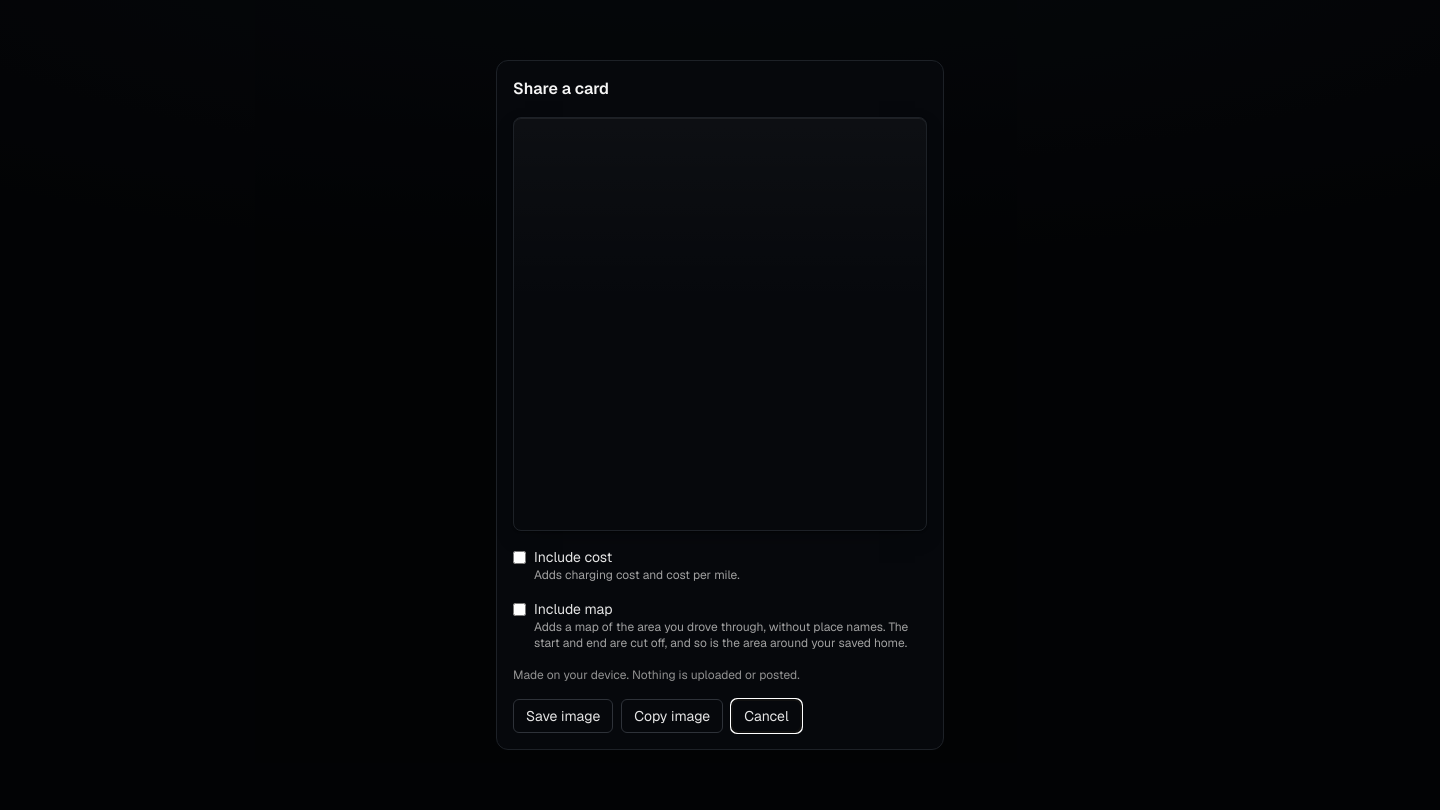
Test: ShareSheet onShared › says the map is unavailable, only once it was asked for and could not be drawn
Check: the text "Map unavailable" is not shown
Step 1. Click the checkbox labelled "Include map" → (520,610), box [513, 603, 526, 616]
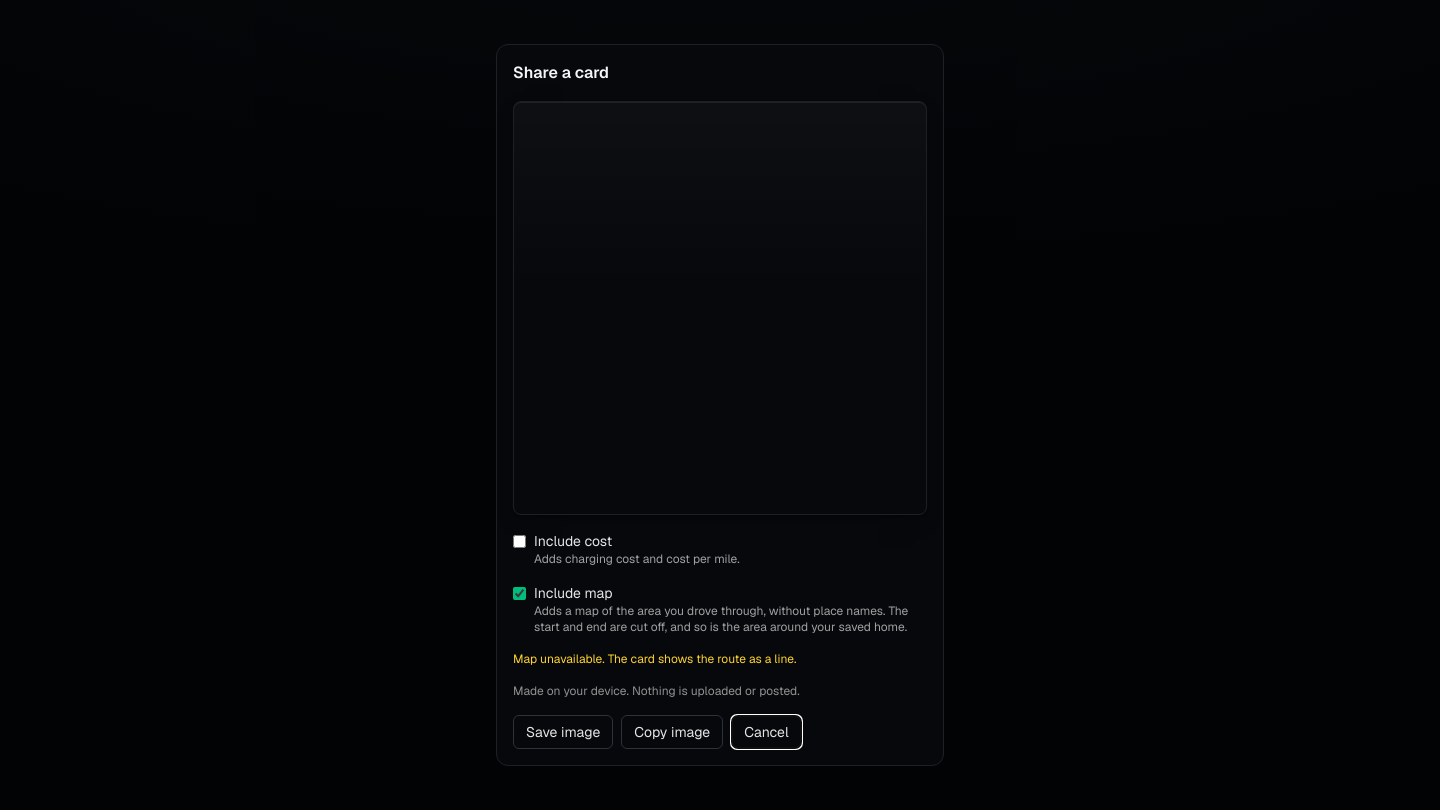
Check: the text "Map unavailable. The card shows the route as a line." is shown, box [513, 651, 796, 667]
Step 2. Click the checkbox labelled "Include map" → (520,594), box [513, 587, 526, 600]
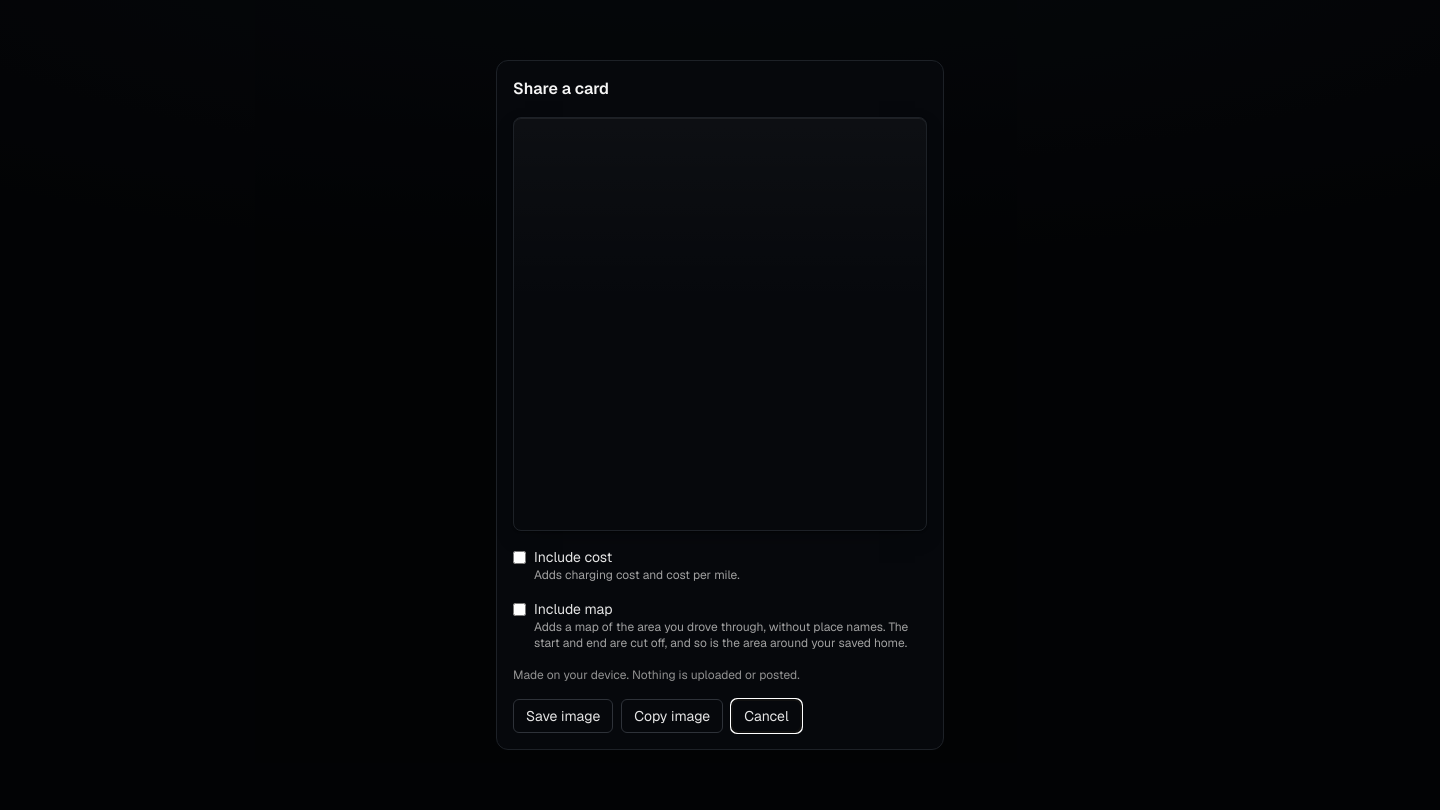
Check: the text "Map unavailable" is gone
